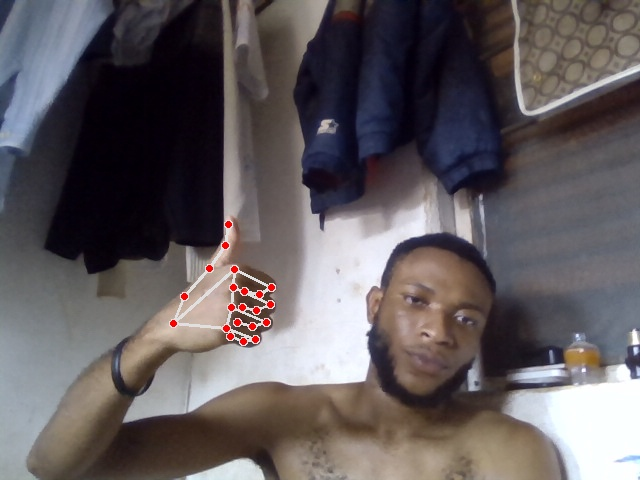thumbsup: (165, 216, 278, 354)
